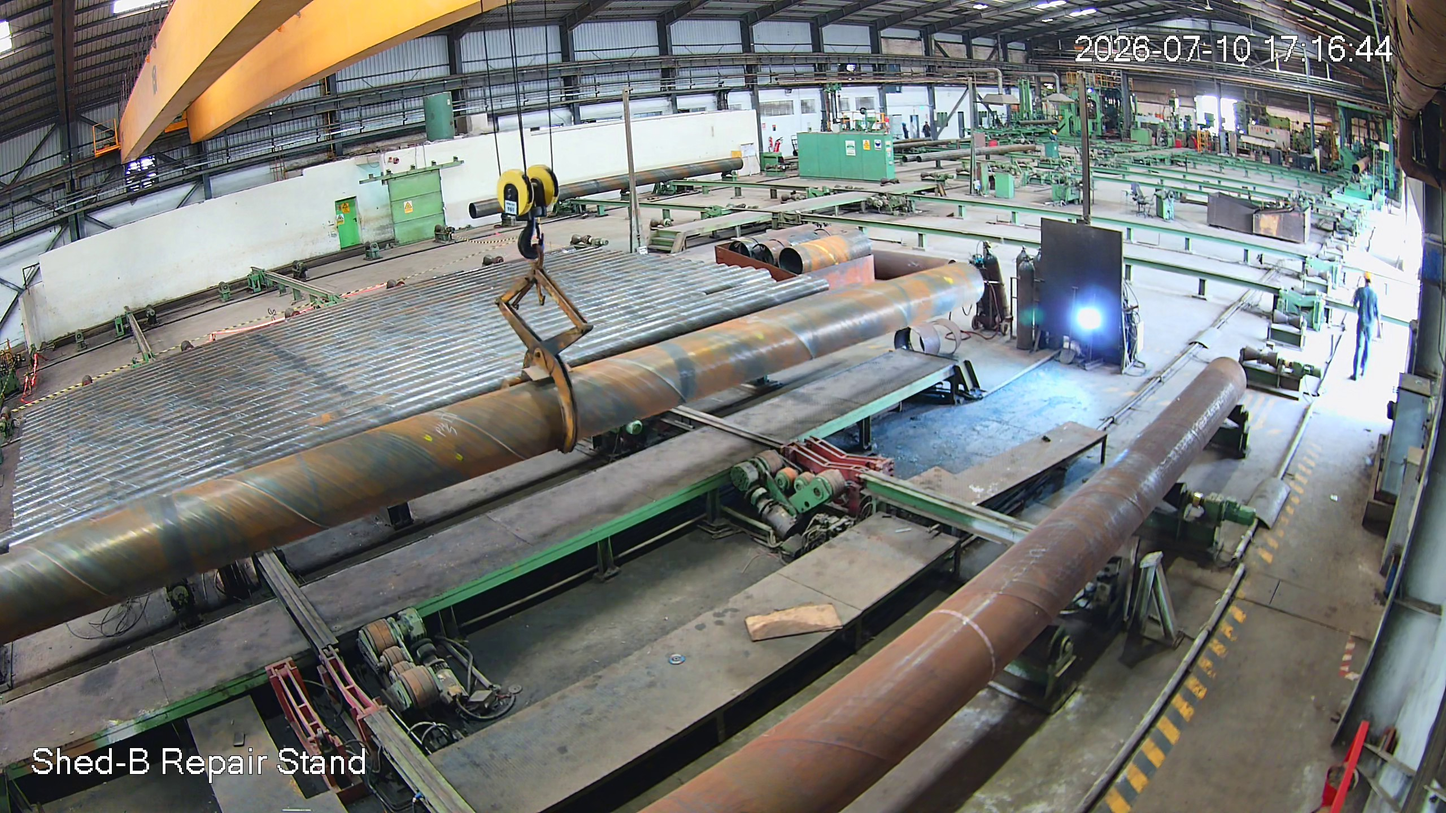Helmet: (1360, 269, 1379, 292)
Person: (1347, 271, 1377, 383)
